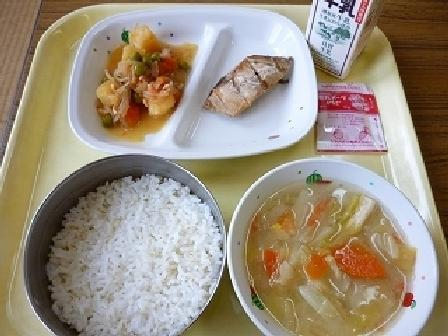Fish: (199, 46, 294, 126)
Milk: (293, 0, 386, 84)
Rice: (28, 160, 233, 335)
Soups: (231, 164, 432, 334)
vegetable based cooked food: (72, 27, 194, 139)
